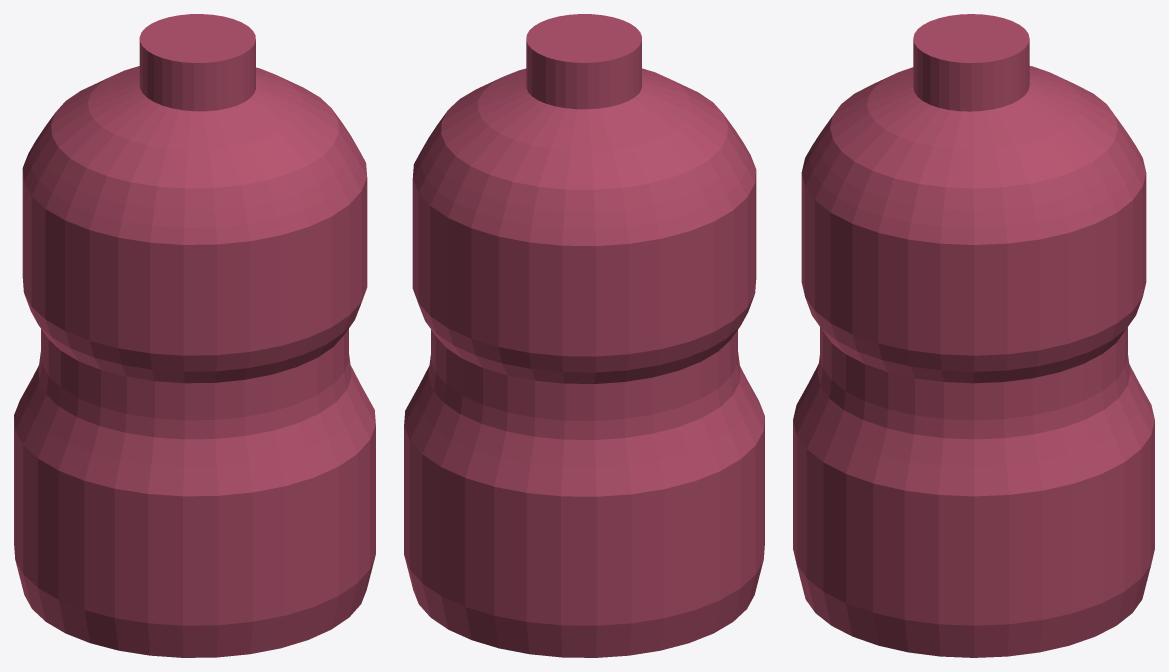
The model's file is Ополаскиватель1Unity.fbx.
The picture shows the model from 3 angles, left to right: view 1: azimuth 30°, elevation 25°; view 2: azimuth 150°, elevation 25°; view 3: azimuth 270°, elevation 25°; orthographic projection.
Parts seen in each view (by area): view 1: Cylinder; view 2: Cylinder; view 3: Cylinder.
Part boxes in pixels (<box>): Cylinder: <box>14,14,375,657</box>; Cylinder: <box>404,14,764,657</box>; Cylinder: <box>793,14,1154,657</box>.
Bounding box in the file's own units: 113 × 188 × 112.
